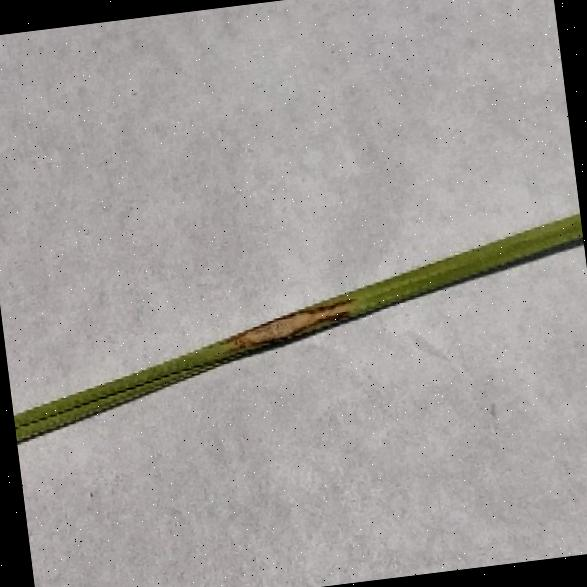Leaf_smut: (184, 281, 358, 371)
